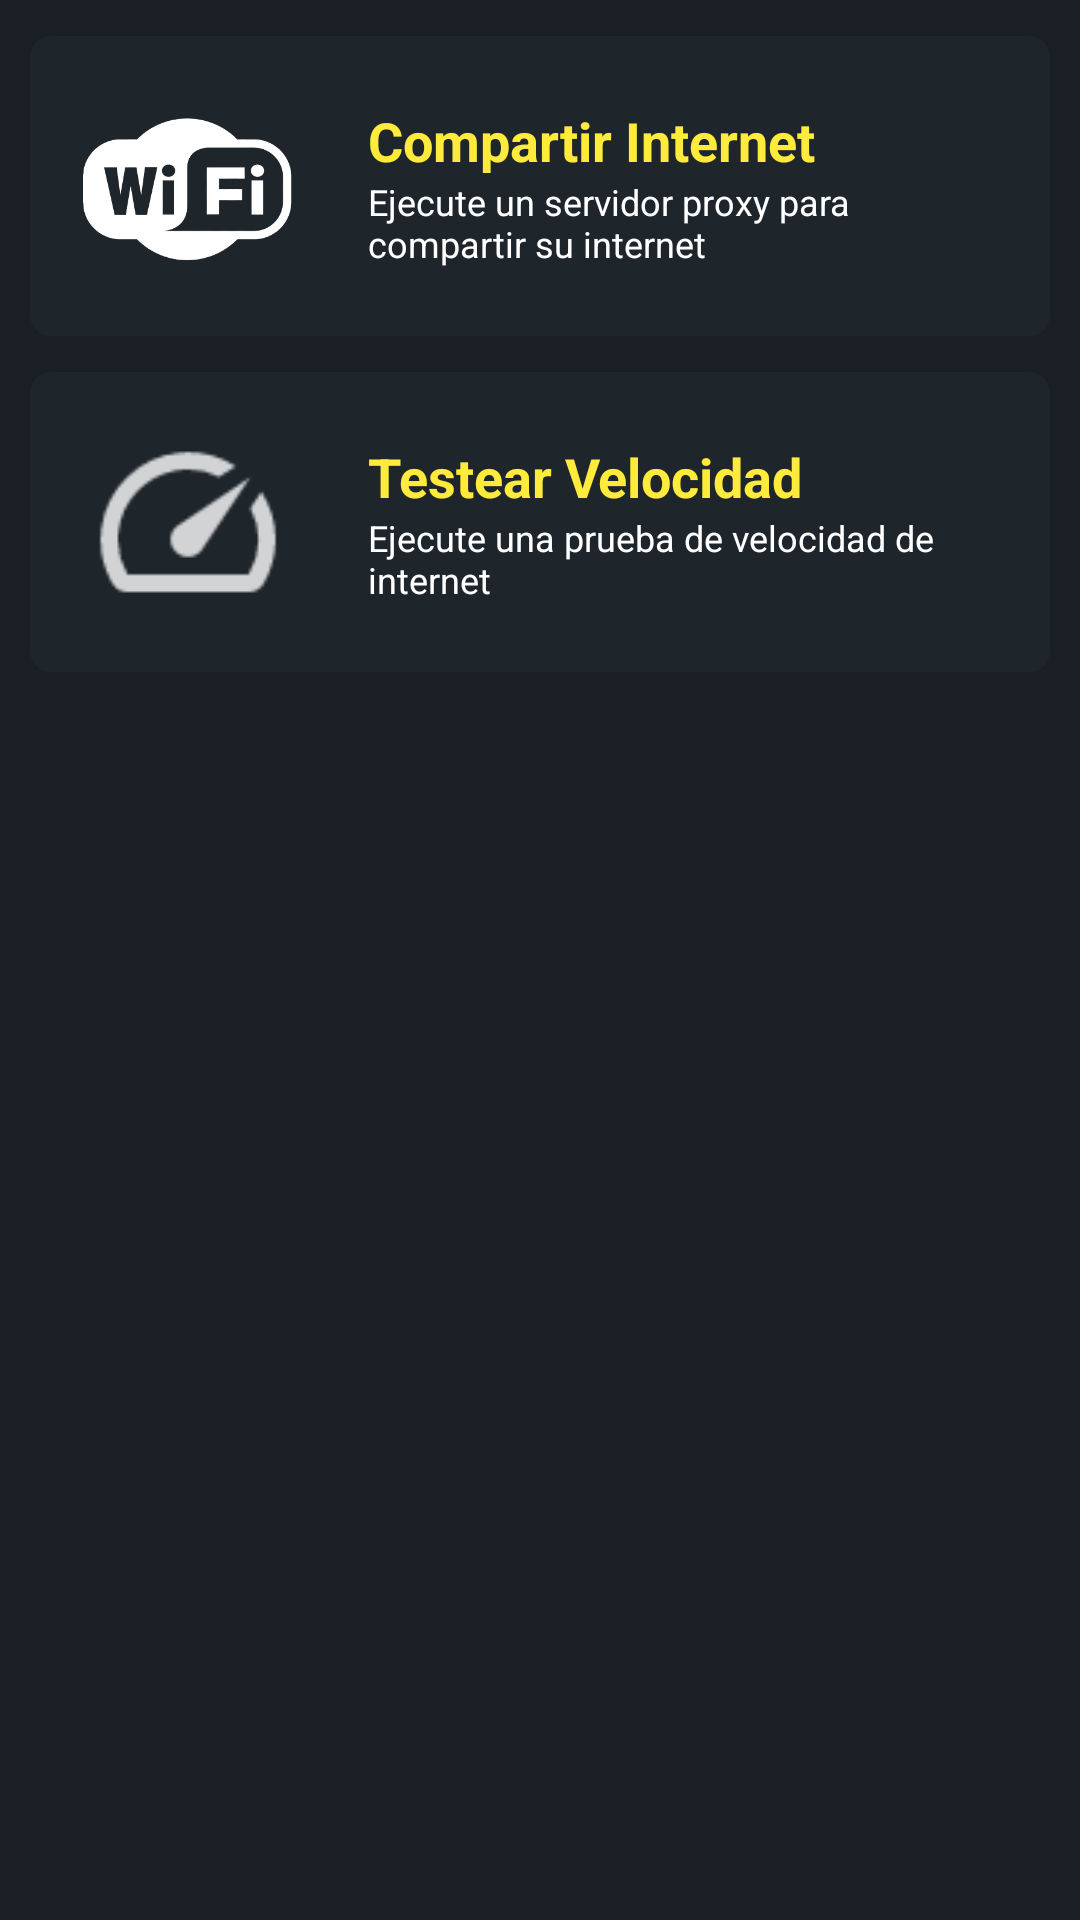

Named icons in this screenshot (1080×1920) and their centers, (x=x, y=y):
speedtest: (x=188, y=522)
